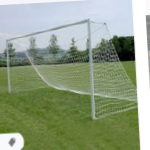goals: (4, 17, 135, 124)
